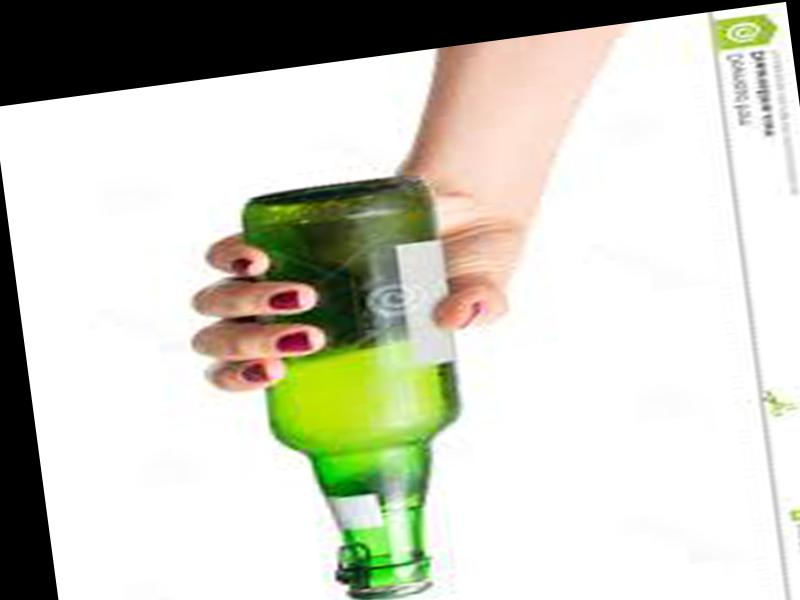Beer: (227, 172, 491, 600)
